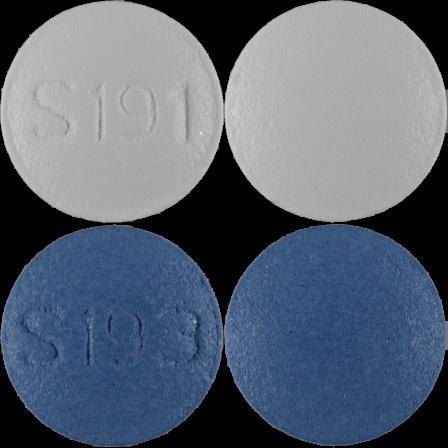21695-225: (0, 0, 224, 224)
